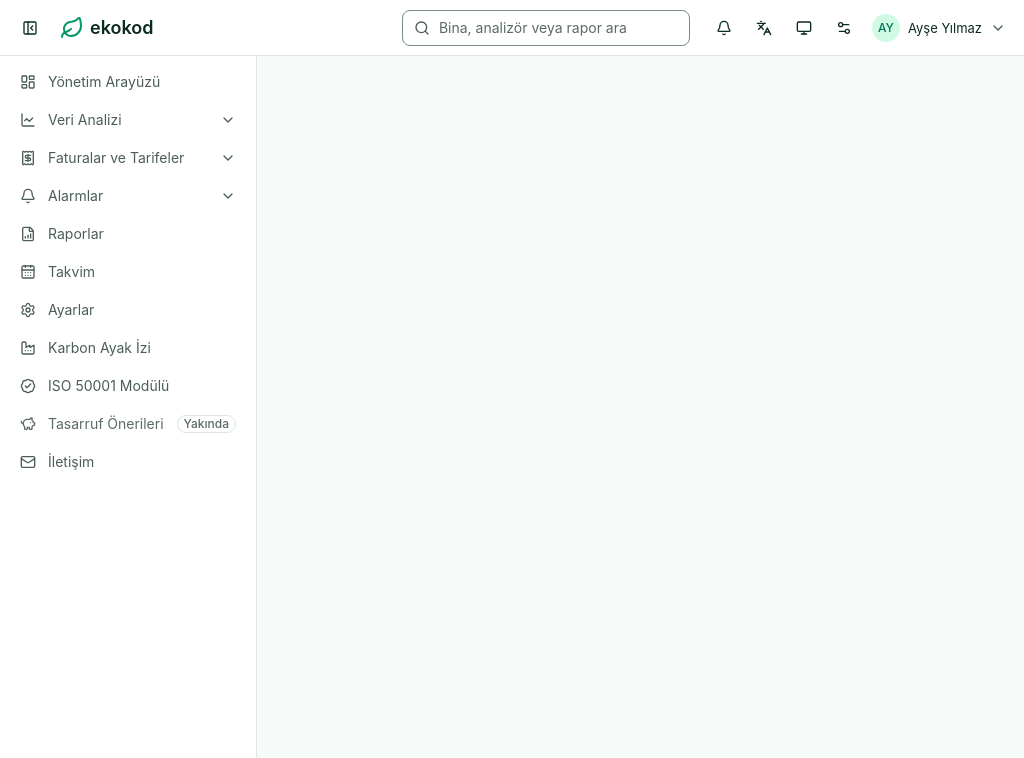
it: /ekorm layout › filters the navigation by permission
The width and height of the screenshot is (1024, 758).
Click the button "Veri Analizi" at [128, 120], box [8,102,248,138]
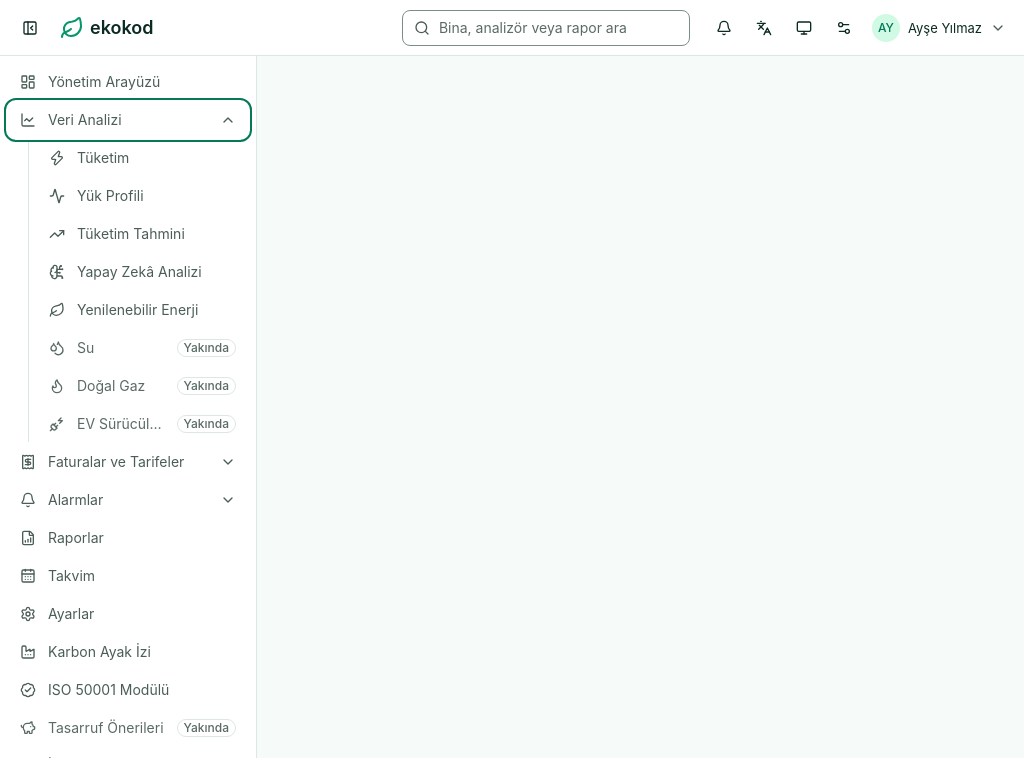
Now the link "Tüketim" is shown, box [49,149,129,166]
